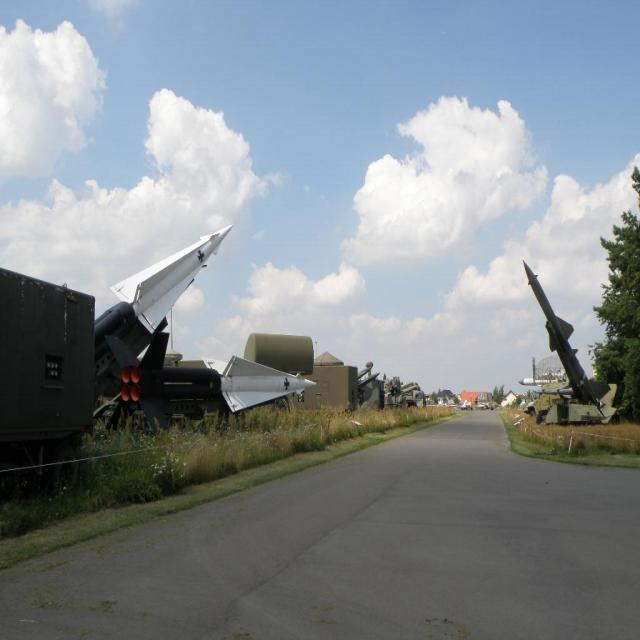rocket: (106, 218, 236, 345), (522, 253, 607, 419)
